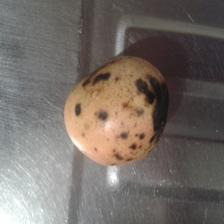Mango Semirotten: (62, 52, 173, 169)
